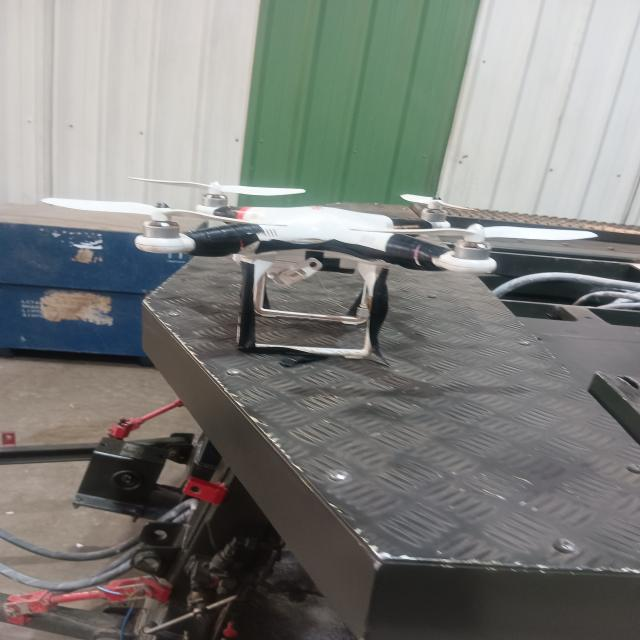drone: (29, 162, 604, 366)
